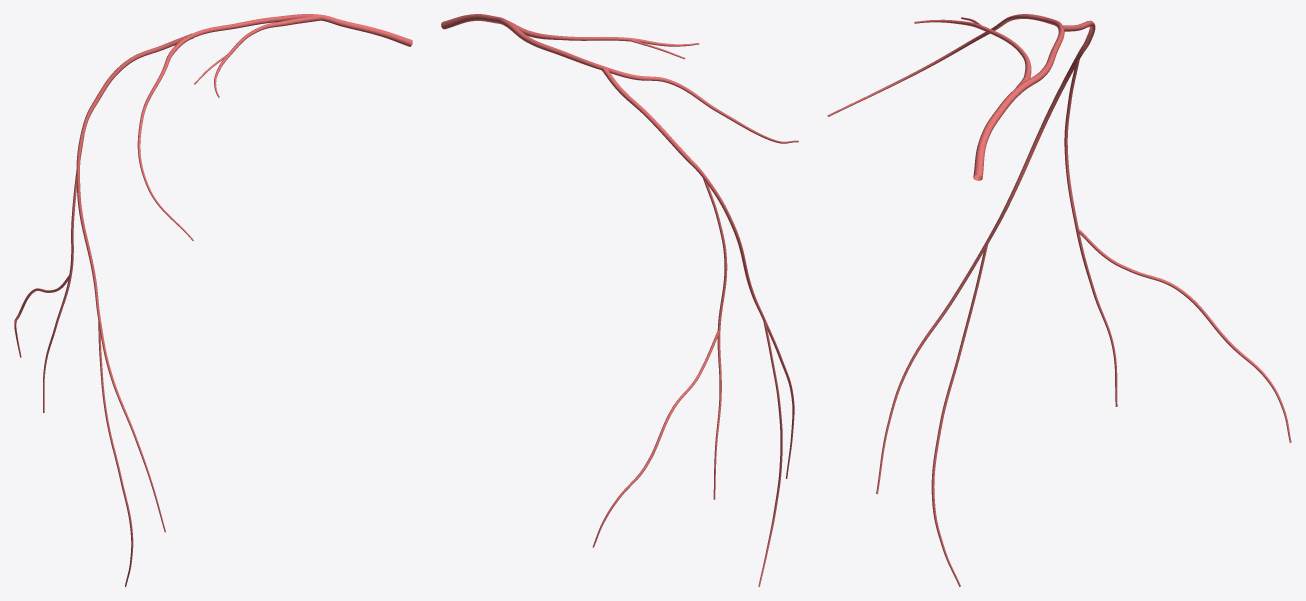
File: Superior_phrenic_arteries.glb
3 views of the same model, side by side, from view 1: azimuth 30°, elevation 25°; view 2: azimuth 150°, elevation 25°; view 3: azimuth 270°, elevation 25° (orthographic). The views are drawn at different scales.
Visible parts, largest first — view 1: Superior_phrenic_arteries_BezierCurve.386; view 2: Superior_phrenic_arteries_BezierCurve.386; view 3: Superior_phrenic_arteries_BezierCurve.386.
Boxes of the visible parts, x1,y1,x2,y2 form: Superior_phrenic_arteries_BezierCurve.386: (14, 14, 412, 586); Superior_phrenic_arteries_BezierCurve.386: (441, 14, 798, 586); Superior_phrenic_arteries_BezierCurve.386: (827, 14, 1291, 586).
Size of the model in its own units: 0.096 by 0.1465 by 0.0973.
